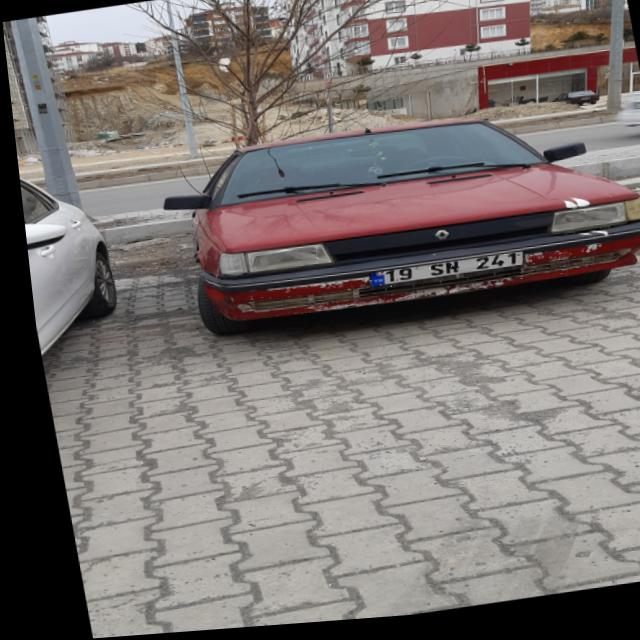license_plate: (361, 259, 521, 295)
